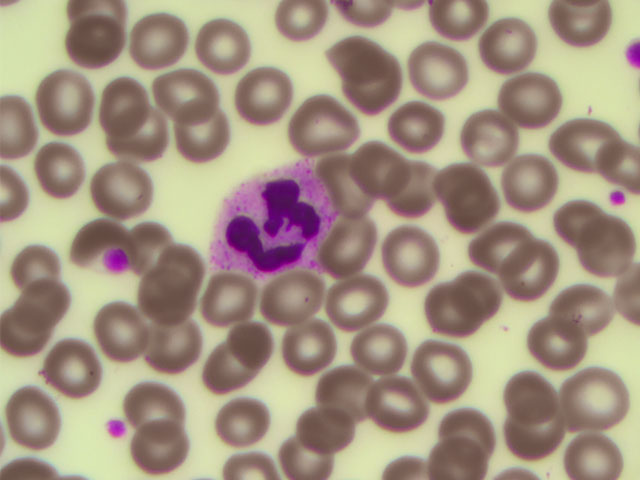Platelets: (103, 249, 129, 272), (103, 419, 128, 442), (623, 35, 640, 67), (609, 191, 627, 208)
RBC: (283, 422, 341, 480), (437, 422, 495, 480), (567, 422, 625, 480), (67, 13, 125, 70), (125, 12, 183, 69), (193, 16, 251, 73), (236, 66, 294, 123), (154, 57, 212, 114), (168, 106, 226, 163), (91, 69, 149, 126), (115, 121, 173, 178), (38, 75, 96, 132), (38, 144, 96, 201), (98, 154, 156, 211), (54, 192, 112, 249), (113, 201, 171, 258), (143, 238, 201, 295), (135, 279, 193, 336), (149, 317, 207, 374), (93, 298, 151, 355), (39, 340, 97, 397), (3, 307, 61, 364), (28, 270, 86, 327), (4, 242, 62, 299), (11, 388, 69, 445), (122, 370, 180, 427), (136, 421, 194, 478), (215, 390, 273, 447), (207, 342, 265, 399), (229, 316, 287, 373), (198, 274, 256, 331), (252, 271, 310, 328), (283, 308, 341, 365), (307, 362, 365, 419), (298, 392, 356, 449), (442, 400, 500, 457), (368, 375, 426, 432), (413, 350, 471, 407), (345, 325, 403, 382), (327, 277, 385, 334), (325, 223, 383, 280), (386, 228, 444, 285), (390, 164, 448, 221), (356, 140, 414, 197), (323, 153, 381, 210), (291, 93, 349, 150), (331, 63, 389, 120), (331, 23, 389, 80), (409, 42, 467, 99), (466, 14, 524, 71), (431, 1, 489, 58), (496, 69, 554, 126), (448, 113, 506, 170), (431, 149, 489, 206), (469, 222, 527, 279), (514, 241, 572, 298), (458, 270, 516, 327), (418, 292, 476, 349), (522, 308, 580, 365), (566, 273, 624, 330), (571, 227, 629, 284), (549, 197, 607, 254), (501, 148, 559, 205), (557, 116, 615, 173), (556, 1, 614, 58), (560, 366, 618, 423), (496, 356, 554, 413), (505, 404, 563, 461)
WBC: (202, 165, 333, 274)
